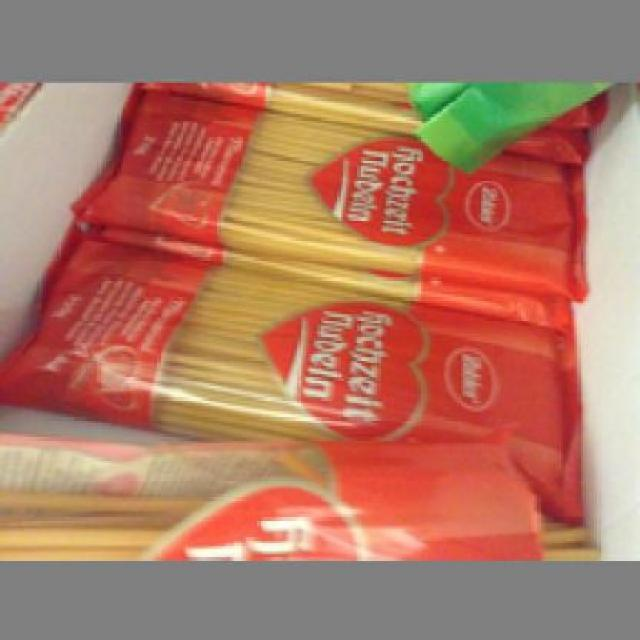Pasta: (0, 214, 586, 497), (67, 86, 584, 286)
